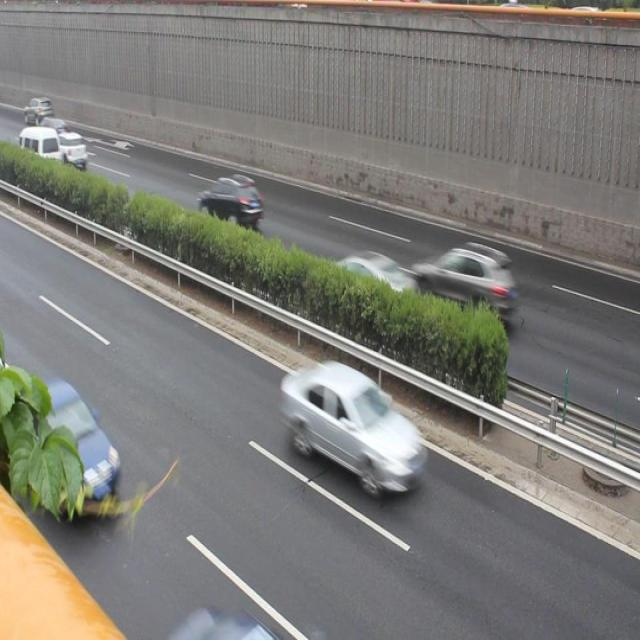car: (282, 361, 430, 495), (12, 379, 127, 508), (411, 237, 517, 330), (328, 244, 421, 314), (198, 175, 265, 232), (58, 126, 90, 168)
truck: (18, 126, 64, 176)
